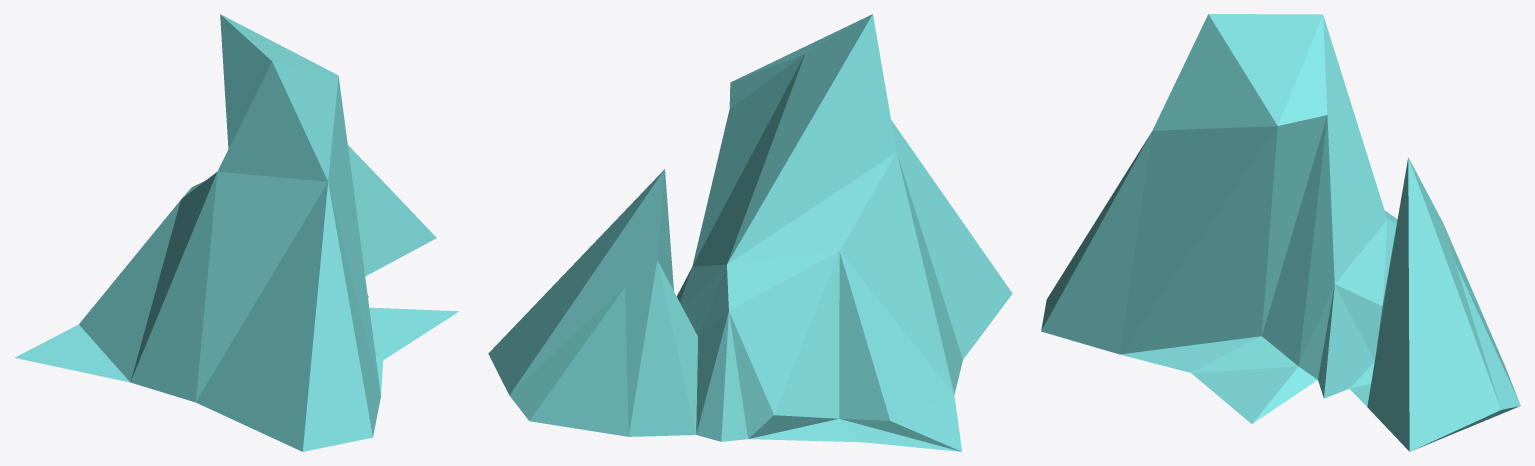
The model's file is pointy-berg7.fbx.
3 renders of one model, left to right at view 1: azimuth 30°, elevation 25°; view 2: azimuth 150°, elevation 25°; view 3: azimuth 270°, elevation 25°, orthographic. The views are drawn at different scales.
Parts seen in each view (by area): view 1: berg 3.001; view 2: berg 3.001; view 3: berg 3.001.
Part boxes in pixels (x1,y1,x2,y2): berg 3.001: (14, 14, 458, 451); berg 3.001: (488, 14, 1012, 451); berg 3.001: (1041, 14, 1520, 451).
Bounding box in the file's own units: 5185 × 3607 × 5011.
